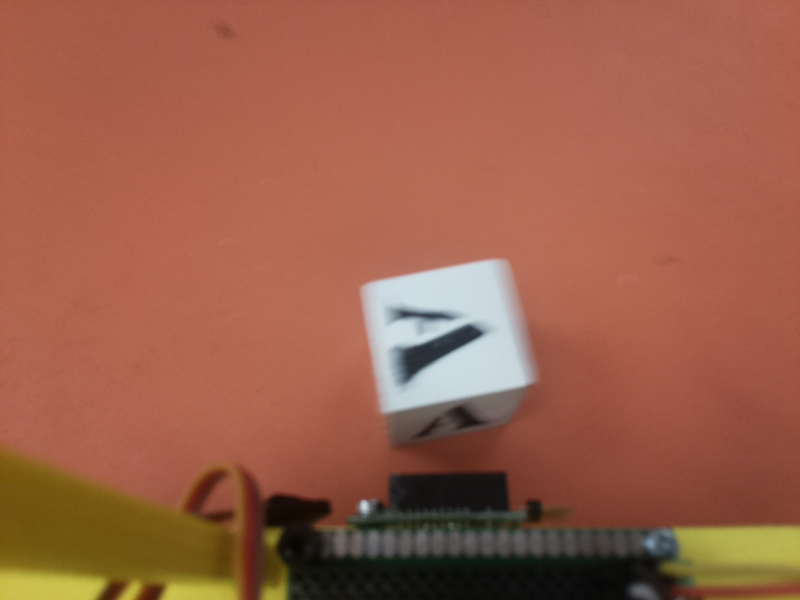blockA: (360, 253, 535, 462)
